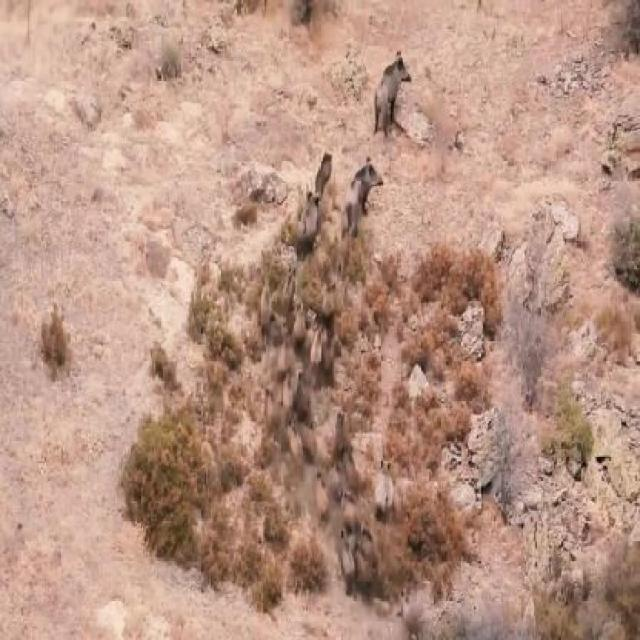pig: (355, 49, 413, 124), (351, 157, 396, 230)
